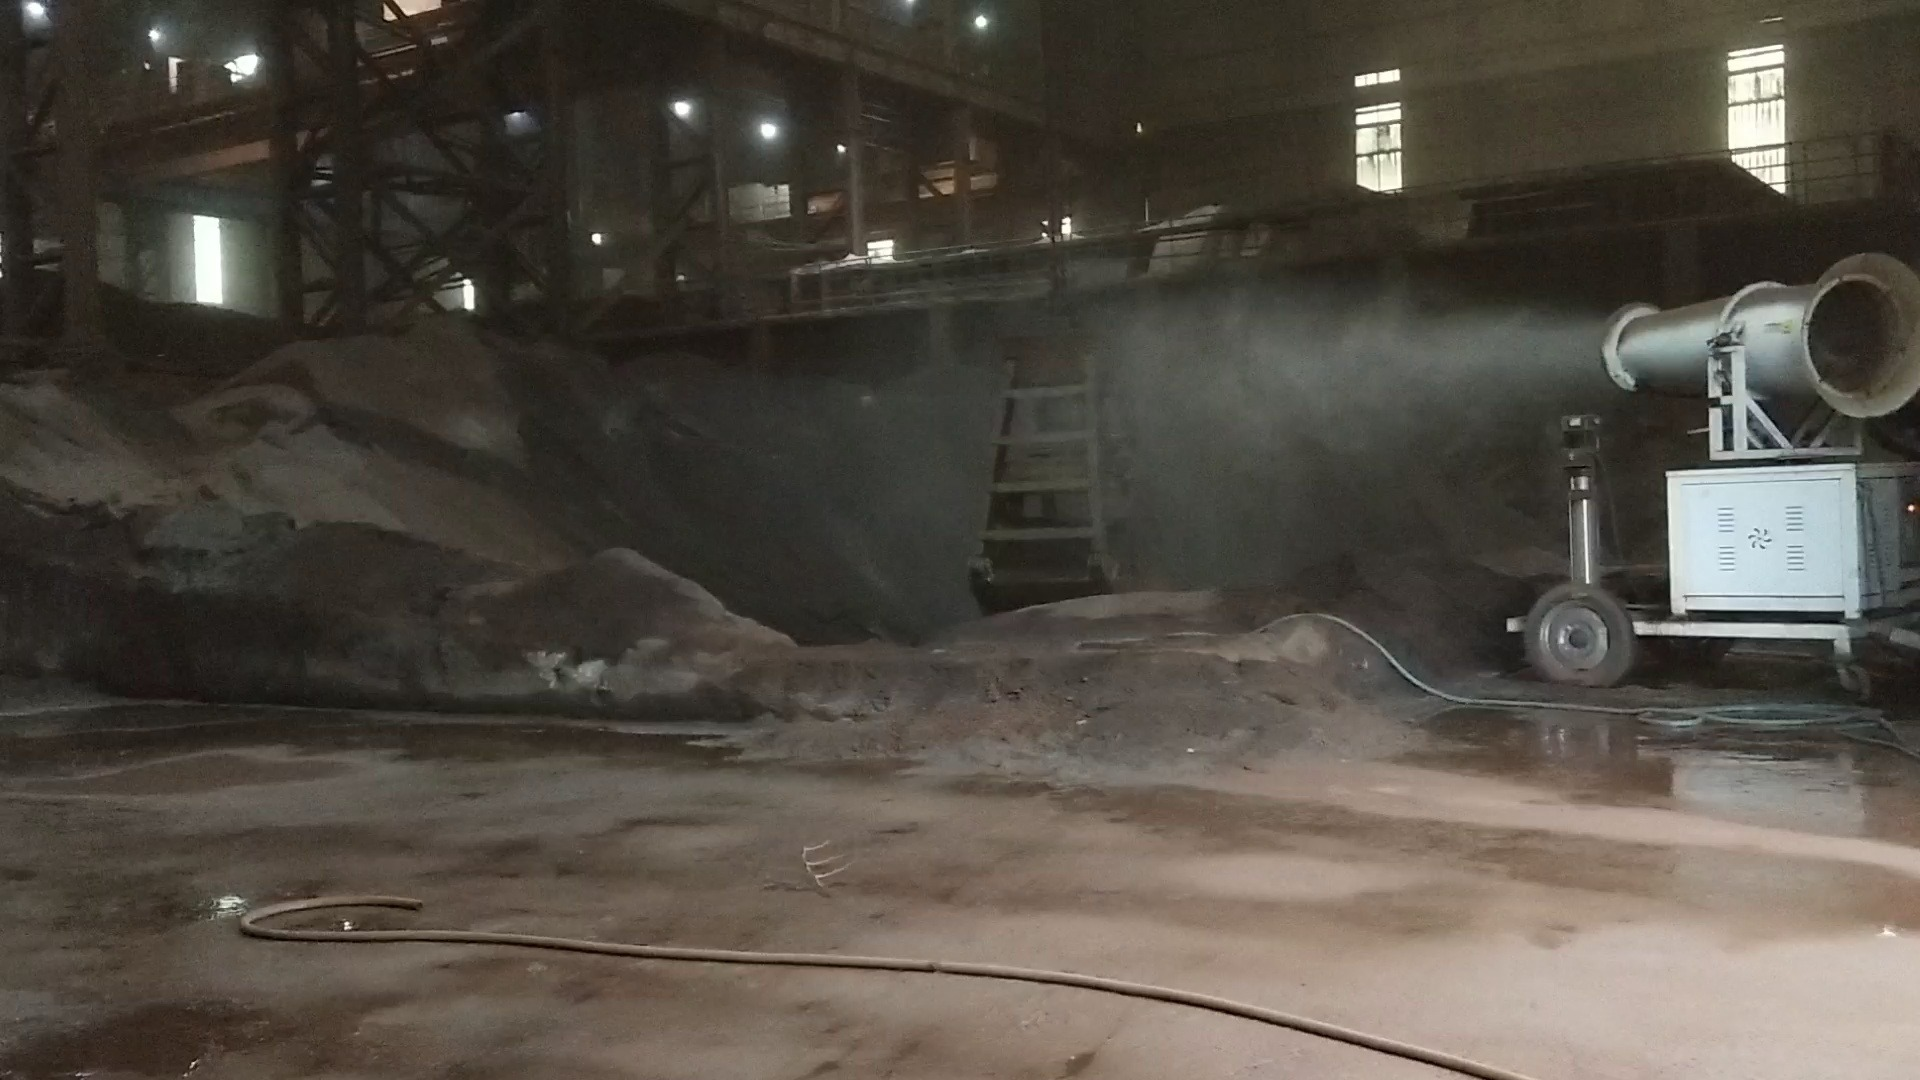dust: (1160, 280, 1592, 455)
grab: (959, 290, 1172, 615)
